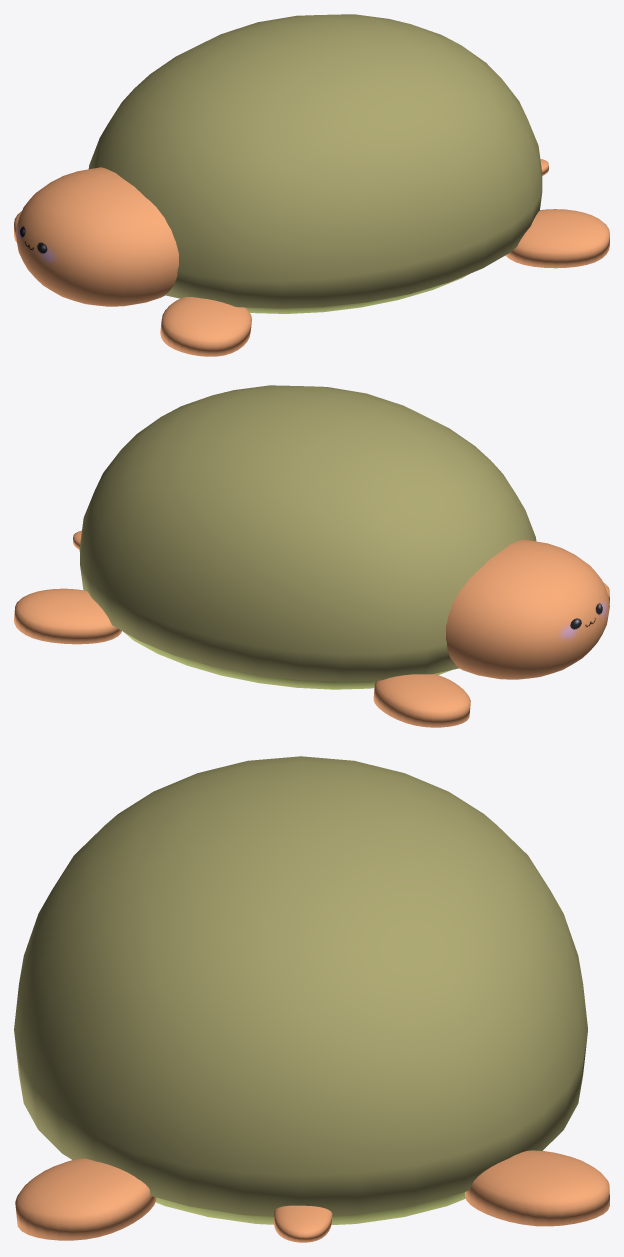
The model's file is turtle3.fbx.
The picture shows the model from 3 angles, top to bottom: view 1: azimuth 30°, elevation 25°; view 2: azimuth 150°, elevation 25°; view 3: azimuth 270°, elevation 25°; orthographic projection. The views are drawn at different scales.
Parts seen in each view (by area): view 1: Cube, Cube.001, Cube.006, Cube.007, Cube.002; view 2: Cube, Cube.001, Cube.005, Cube.004, Cube.002; view 3: Cube, Cube.006, Cube.005, Cube.002, Cube.008.
Boxes of the visible parts, x1,y1,x2,y2 form: Cube: (88,14,542,308); Cube.001: (15,167,178,306); Cube.006: (505,209,609,268); Cube.007: (160,297,251,356); Cube.002: (246,274,469,313); Cube: (79,385,536,681); Cube.001: (446,539,609,679); Cube.005: (14,588,121,644); Cube.004: (373,674,470,727); Cube.002: (124,632,451,689); Cube: (14,756,587,1216); Cube.006: (15,1158,156,1240); Cube.005: (465,1150,609,1226); Cube.002: (155,1192,465,1224); Cube.008: (274,1205,332,1242).
Size of the model in its own units: 328 by 125 by 224.
4 materials, 1 textured.
